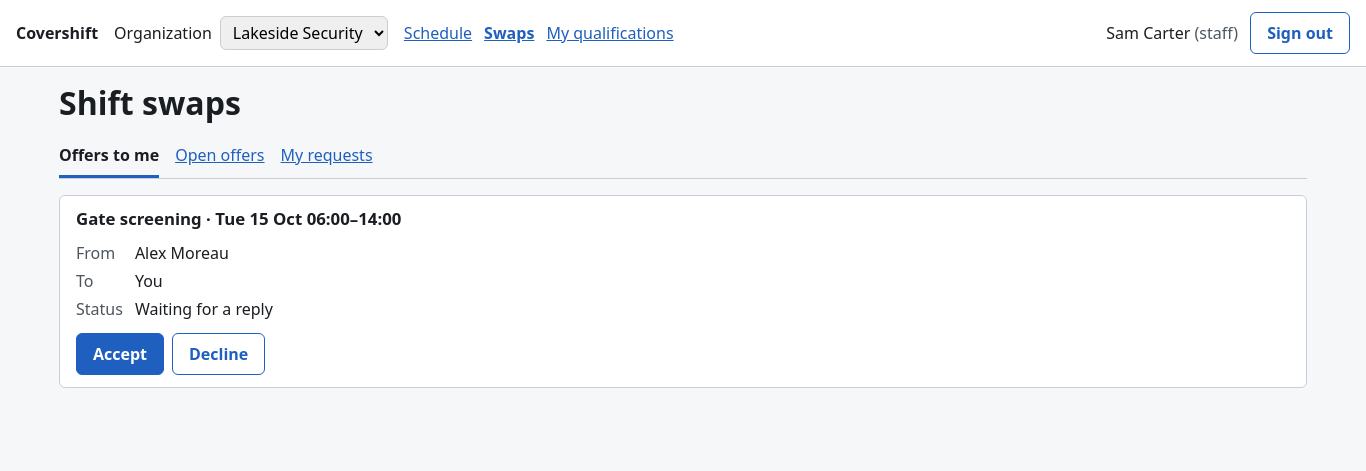
SwapsPage › accept: success message, and the list is refetched
Step 1. Click the button "Accept" → [120, 354], box left=76, top=333, right=164, bottom=375
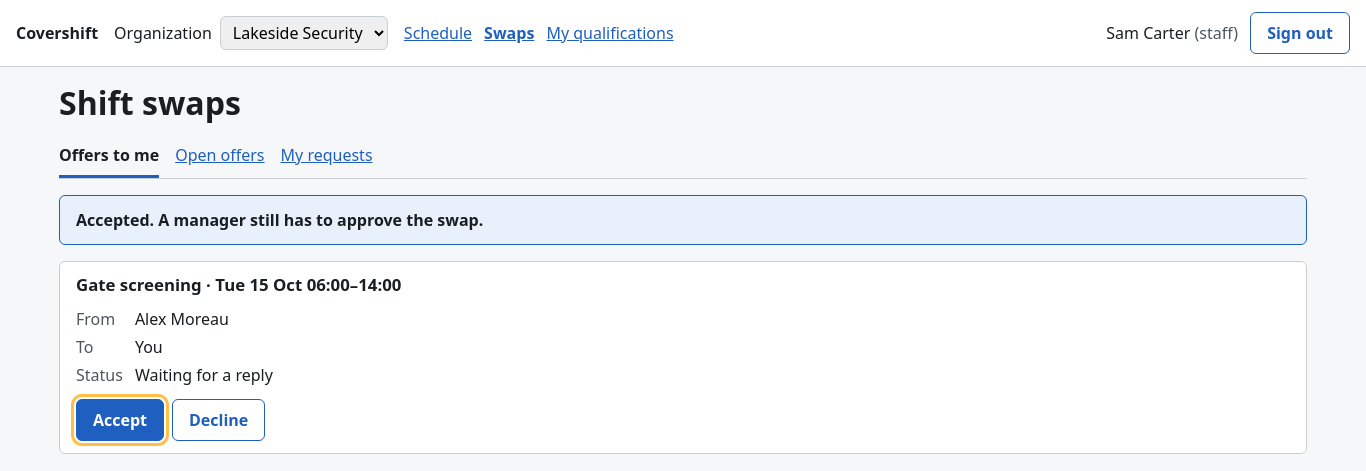
Expected: the text "Accepted. A manager still has to approve the swap." is shown, left=76, top=209, right=483, bottom=231
